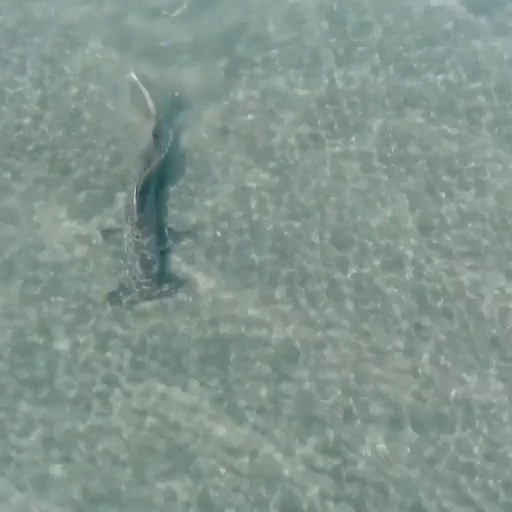shark: (98, 69, 199, 313)
